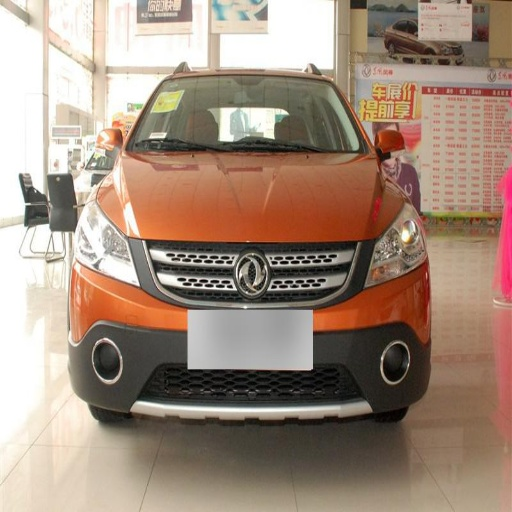front_bumper: (69, 237, 430, 417)
front_right_light: (75, 199, 141, 285)
hood: (101, 149, 403, 238)
